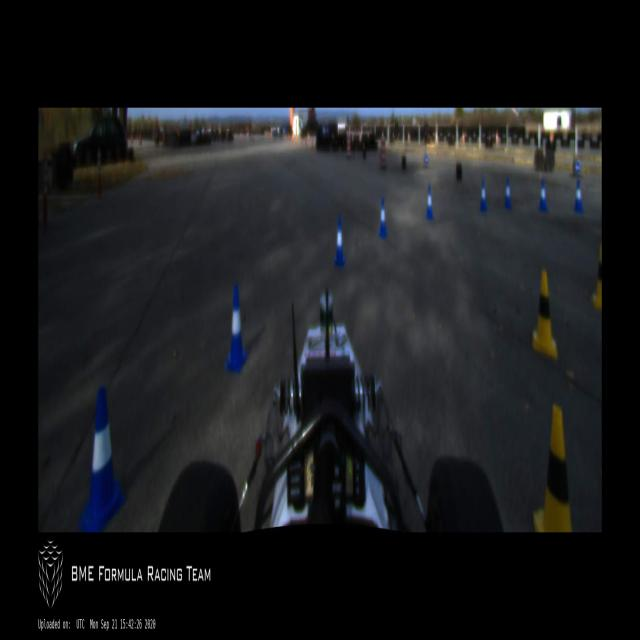blue_cone: (79, 388, 126, 532), (225, 288, 248, 374), (332, 216, 346, 267), (378, 197, 388, 237), (538, 178, 548, 213), (478, 178, 488, 212), (574, 180, 584, 212), (425, 184, 433, 218), (504, 177, 512, 208)
yellow_cone: (533, 404, 573, 532), (532, 270, 556, 358), (591, 240, 601, 312)
